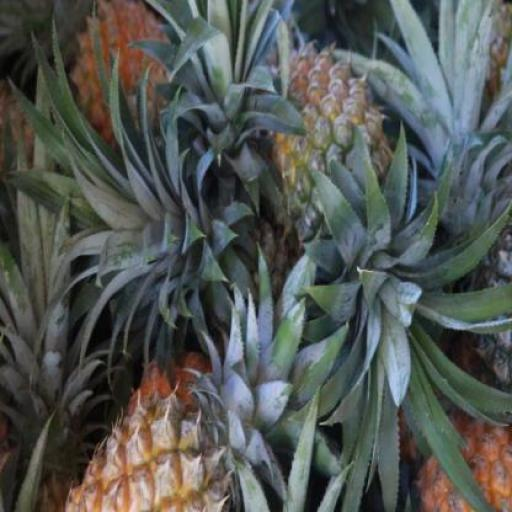------------------------------: (266, 43, 404, 254)
Pineapple - v8 v1: (62, 389, 242, 511)
